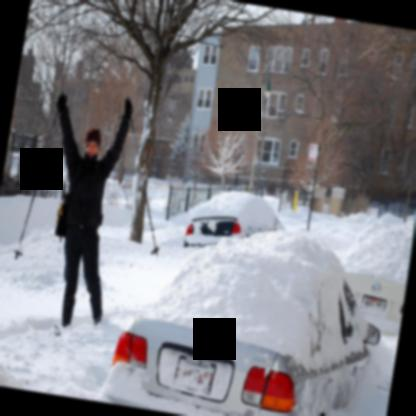backpack: (55, 189, 69, 237)
